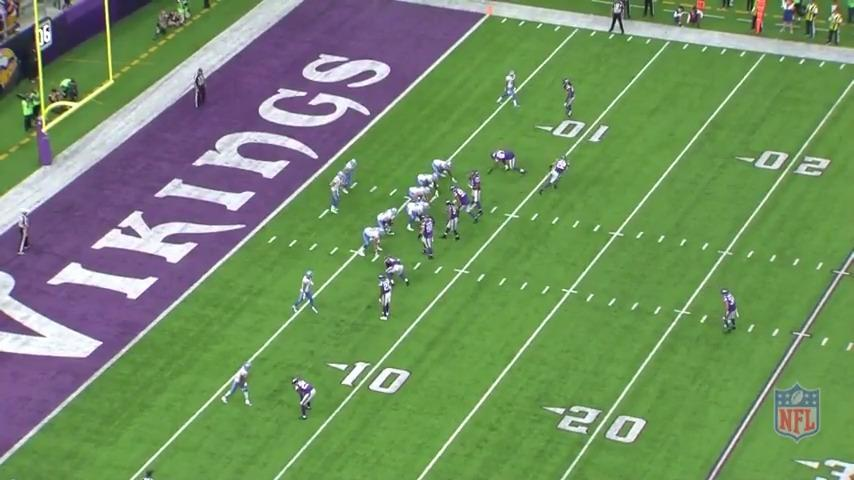defense: (543, 152, 571, 196), (717, 287, 740, 337), (291, 375, 315, 422), (492, 147, 528, 178), (452, 184, 479, 223), (418, 213, 438, 262), (378, 269, 395, 322), (444, 198, 464, 243), (381, 255, 409, 287), (561, 77, 579, 121), (468, 170, 484, 215)
oline: (358, 225, 390, 261), (406, 199, 432, 231), (375, 206, 399, 238), (414, 172, 442, 198), (407, 184, 433, 203)
qb: (327, 170, 346, 217)
ref: (190, 54, 211, 113), (12, 206, 33, 257), (607, 0, 629, 36)
skill: (220, 360, 255, 410), (291, 268, 320, 316), (494, 69, 521, 113), (432, 157, 461, 184), (343, 158, 361, 197)
